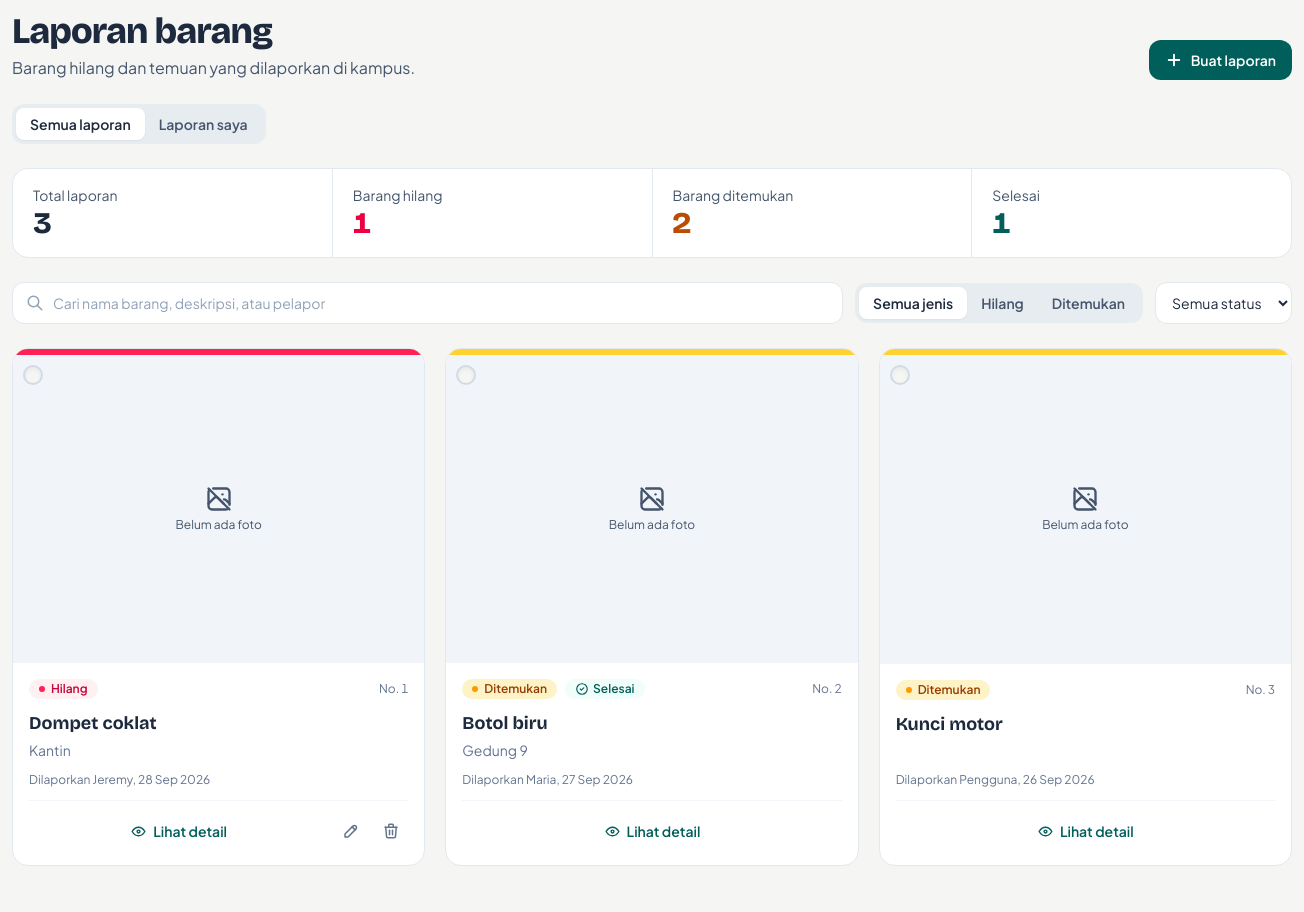
Test: HomePage › should render metrics and cards, then filter and reset
The width and height of the screenshot is (1304, 912).
Expected: the element with test id "lost-found-grid" is shown, [12,348,1292,866]
Expected: the button with test id "edit-lost-found-1" is shown, [334,814,368,848]
Click the button with test id "type-found-btn": (1088, 303) [1038,287,1139,319]
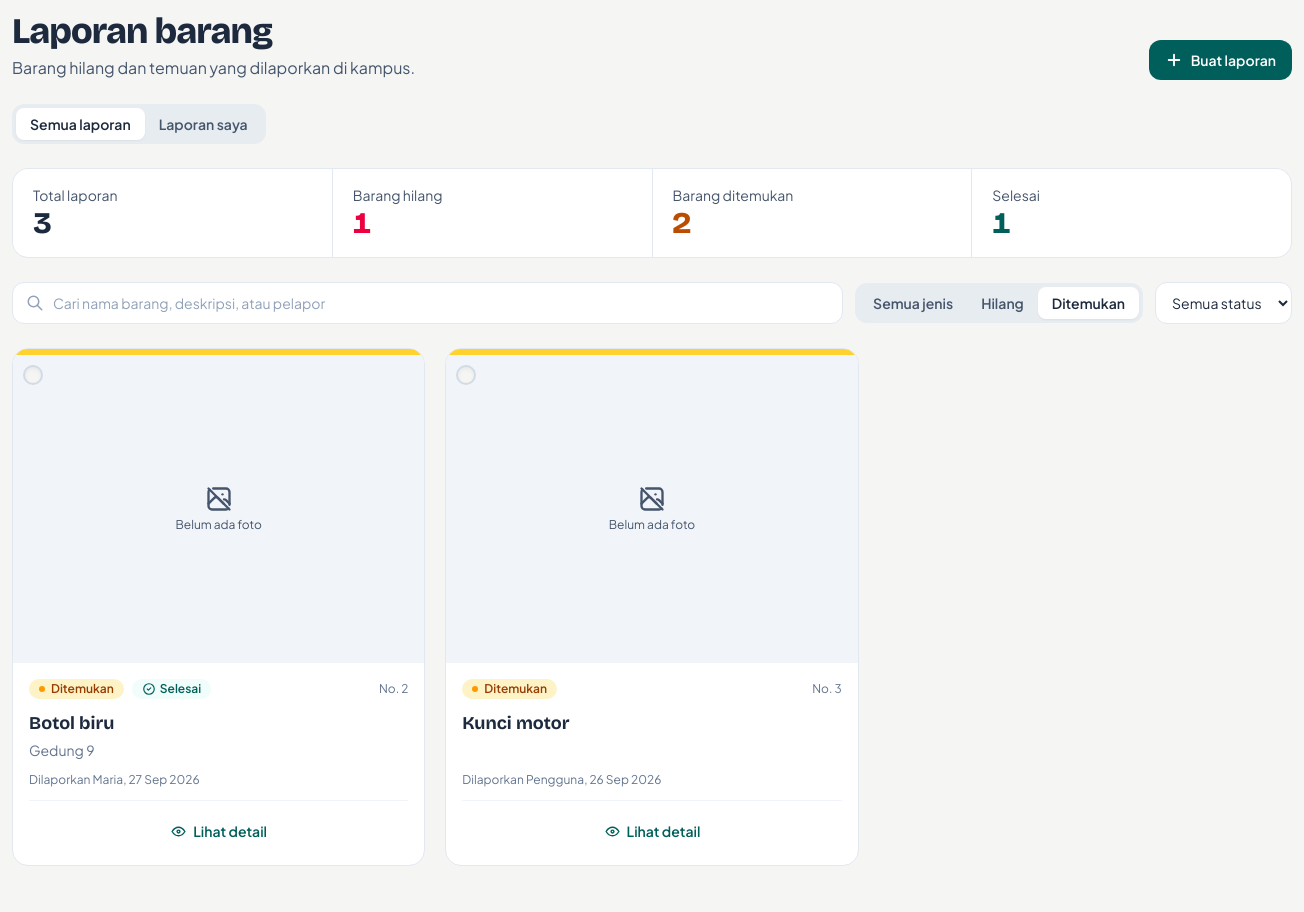
Now the element with test id "lost-found-card-1" is gone
Select "Selesai" in the dropdown with test id "completion-select": (1224, 303) [1155,282,1292,324]
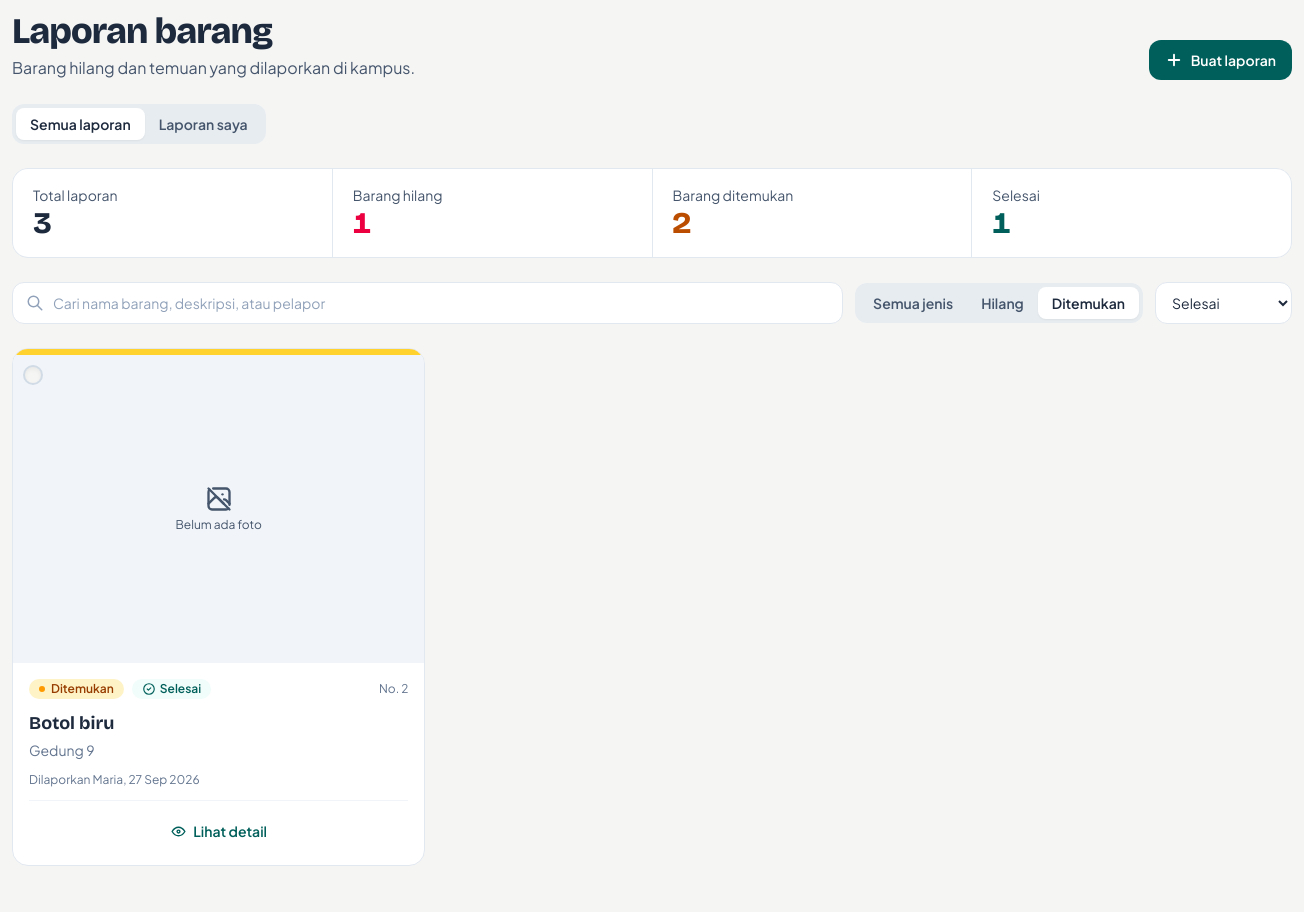
Expected: the heading "Botol biru" is shown, [29,712,114,734]
Now the element with test id "lost-found-card-3" is gone
In the search field with test id "search-input": (428, 303) [12,282,843,324], type "tidak ada"
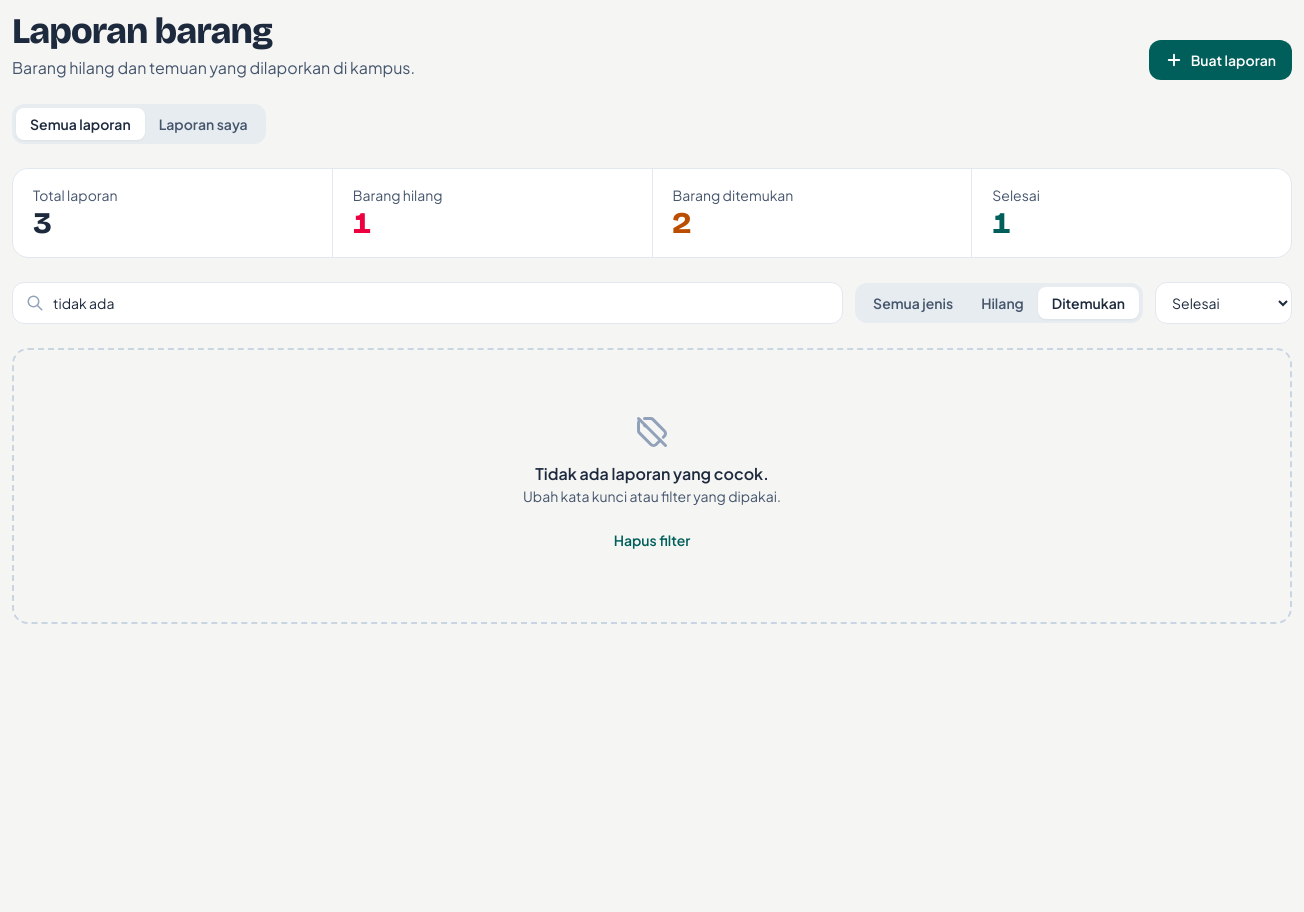
Now the text "Tidak ada laporan yang cocok." is shown, box [535,463,769,484]
Click the button with test id "reset-filter-btn": (652, 540) [598,522,706,558]
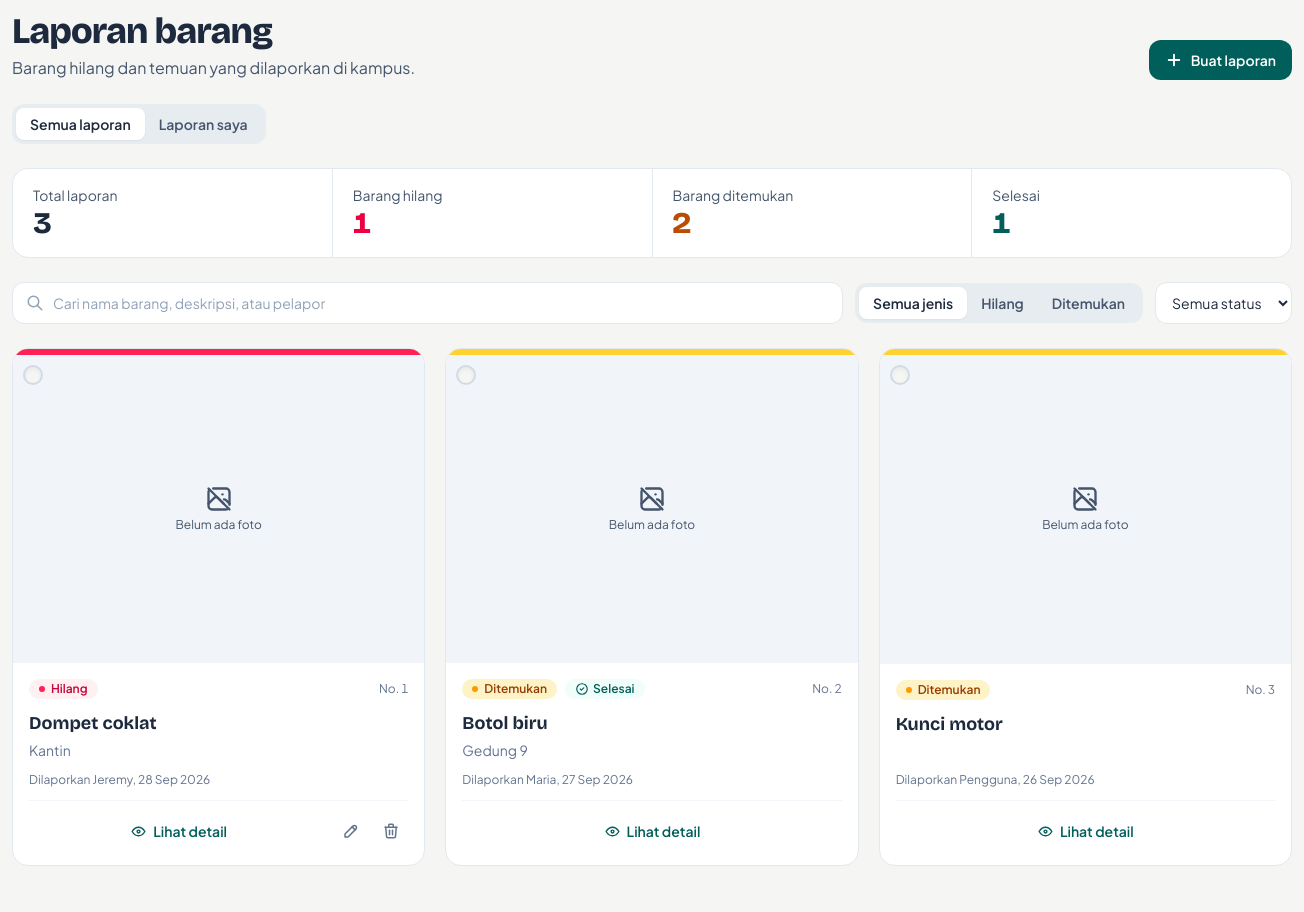
Now the element with test id "lost-found-card-1" is shown, box [12,348,425,866]
Now the search field with test id "search-input" is empty, box [12,282,843,324]
